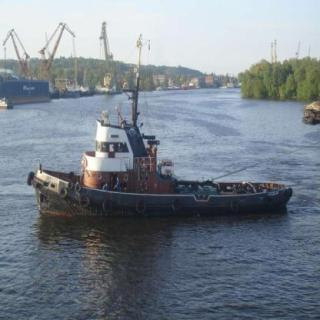Tug Boat: (31, 92, 288, 216)
